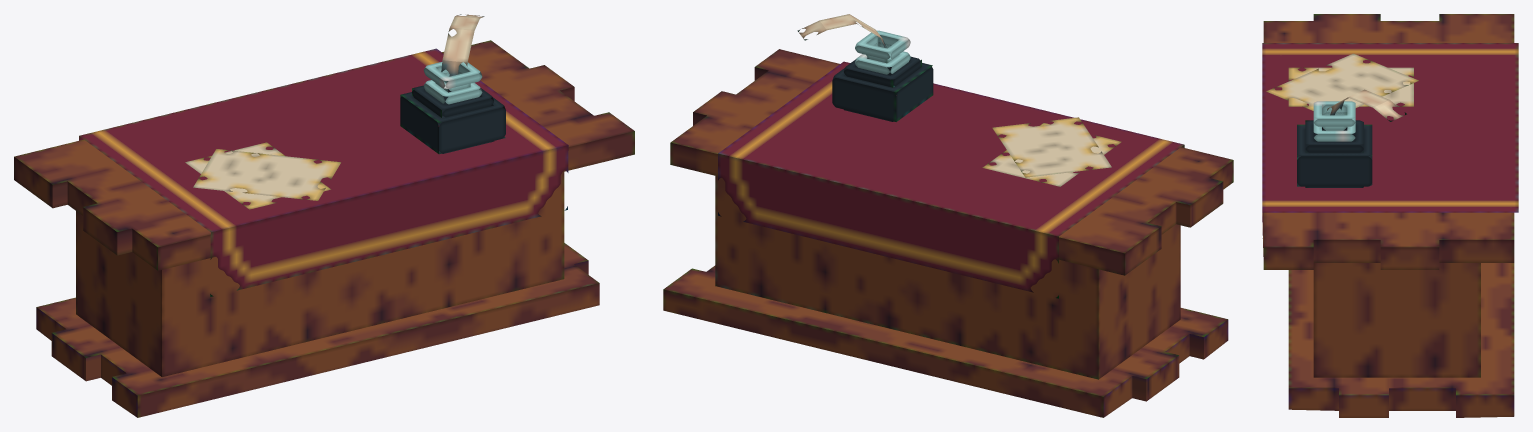
Rendered from SM_ReceptionDesk.fbx.
The picture shows the model from 3 angles, left to right: view 1: azimuth 30°, elevation 25°; view 2: azimuth 150°, elevation 25°; view 3: azimuth 270°, elevation 25°; orthographic projection. The views are drawn at different scales.
Parts seen in each view (by area): view 1: Plane, Table1, Table.001, Table, Ink, Paper.001, Feather, Paper; view 2: Plane, Table1, Table.001, Table, Ink, Paper.001, Paper, Feather; view 3: Plane, Table, Table1, Table.001, Ink, Paper.001, Paper, Feather.
Part boxes in pixels (x1,y1,x2,y2): Plane: (79, 48, 568, 296); Table1: (76, 172, 564, 376); Table.001: (36, 243, 599, 417); Table: (14, 40, 634, 270); Ink: (400, 62, 505, 154); Paper.001: (193, 149, 340, 200); Feather: (441, 14, 484, 92); Paper: (185, 142, 330, 209); Plane: (718, 61, 1184, 298); Table1: (715, 176, 1180, 379); Table.001: (663, 265, 1228, 417); Table: (670, 49, 1233, 275); Ink: (832, 30, 933, 121); Paper.001: (992, 117, 1111, 177); Paper: (982, 123, 1121, 186); Feather: (797, 14, 886, 47); Plane: (1262, 43, 1518, 256); Table: (1263, 14, 1514, 269); Table1: (1313, 263, 1480, 377); Table.001: (1288, 263, 1514, 417); Ink: (1297, 101, 1372, 187); Paper.001: (1266, 53, 1418, 110); Paper: (1288, 67, 1413, 106); Feather: (1324, 89, 1406, 130).
Bounding box in the file's own units: 660 × 355 × 307.
